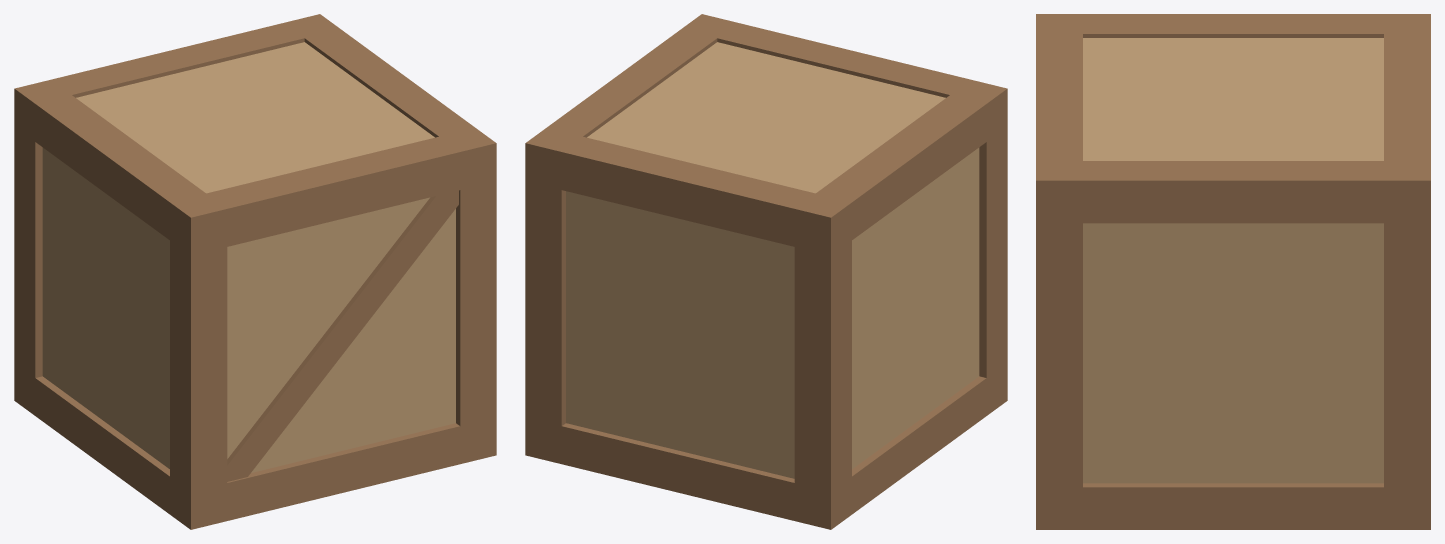
File: SM_Crate.glb
3 renders of one model, left to right at view 1: azimuth 30°, elevation 25°; view 2: azimuth 150°, elevation 25°; view 3: azimuth 270°, elevation 25°, orthographic. The views are drawn at different scales.
Visible parts, largest first — view 1: SM_Crate; view 2: SM_Crate; view 3: SM_Crate.
Part boxes in pixels (x1=…): SM_Crate: x1=14, y1=14, x2=496, y2=529; SM_Crate: x1=525, y1=14, x2=1007, y2=529; SM_Crate: x1=1036, y1=14, x2=1430, y2=529.
Size of the model in its own units: 0.84 by 0.82 by 0.84.
